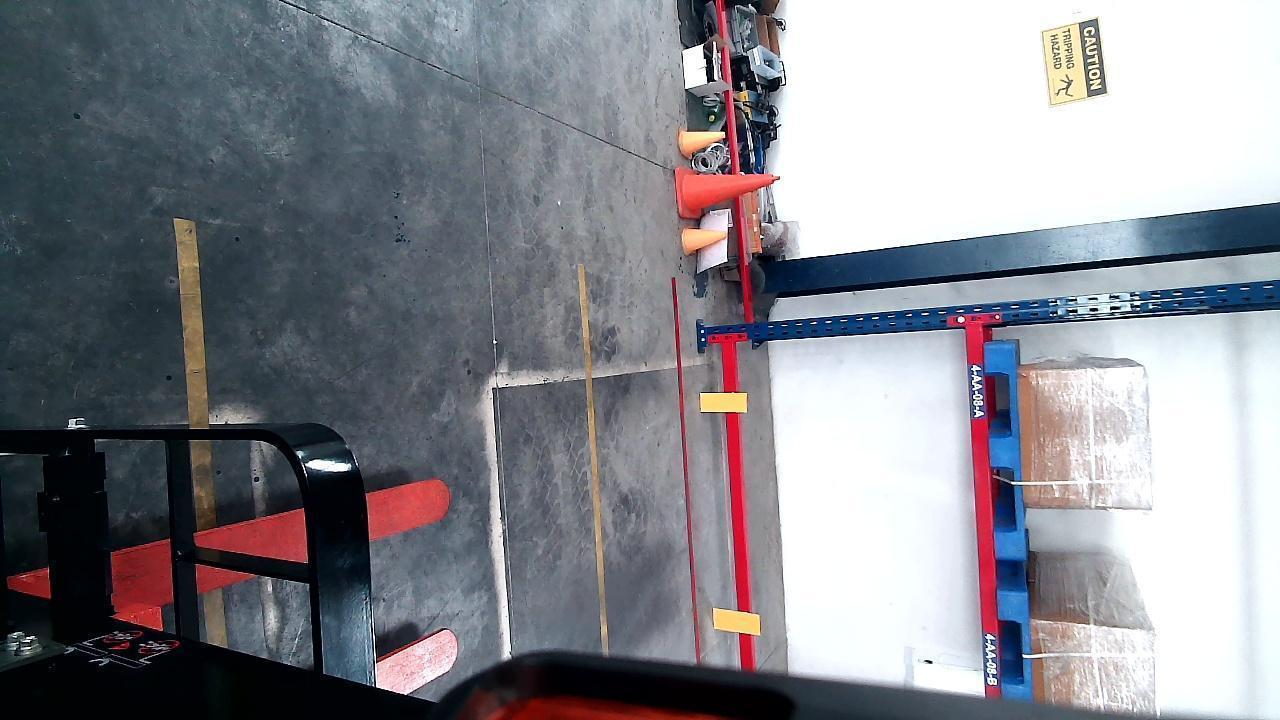red_line: (669, 283, 703, 664)
yellow_line: (574, 264, 616, 643), (180, 216, 209, 425)
